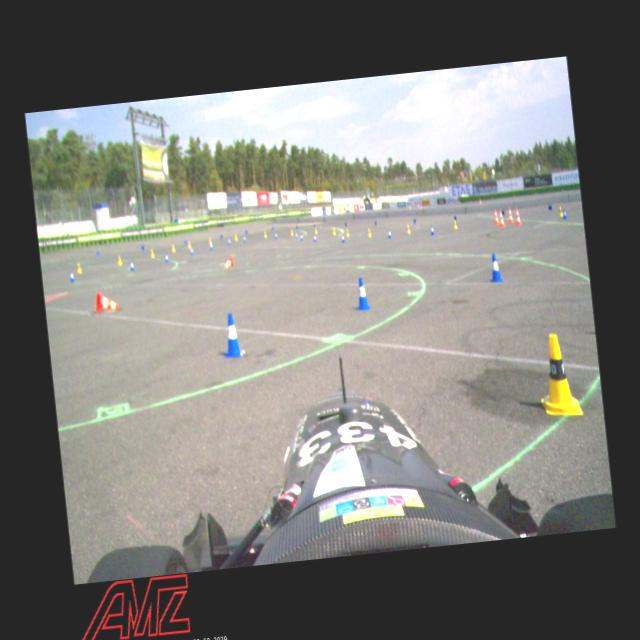blue_cone: (220, 310, 243, 357), (353, 276, 371, 312), (486, 252, 504, 282), (68, 268, 75, 282), (128, 259, 134, 271), (562, 208, 568, 220), (429, 225, 434, 235), (387, 228, 392, 238), (164, 251, 168, 262), (340, 232, 344, 242), (312, 232, 316, 242), (190, 246, 193, 255), (209, 241, 212, 250), (294, 232, 298, 238), (242, 235, 245, 242), (274, 232, 277, 238), (300, 232, 302, 241), (228, 237, 230, 245)
large_orange_cone: (498, 208, 506, 228), (514, 206, 522, 226), (506, 206, 514, 224), (492, 207, 500, 224)
orange_cone: (94, 290, 120, 313), (222, 257, 234, 269)
yellow_cone: (534, 330, 578, 414), (75, 262, 81, 274), (452, 219, 458, 230), (116, 254, 122, 265), (558, 205, 563, 217), (406, 222, 410, 235), (149, 248, 154, 258), (366, 228, 371, 238), (171, 243, 175, 253), (314, 226, 318, 235), (332, 227, 336, 236), (187, 240, 191, 248), (345, 228, 349, 236), (208, 236, 212, 243), (263, 230, 266, 238), (234, 233, 237, 240), (290, 228, 292, 236)
